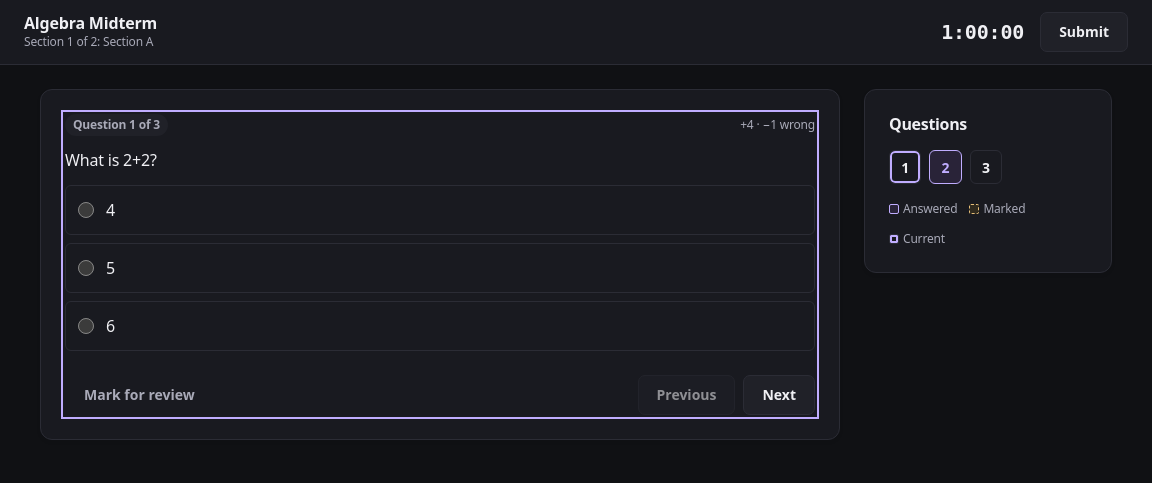
it: ExamRunner › shows answer state in the palette and navigates between all questions
Expected: the text "What is 2+2?" is shown, [65, 149, 157, 171]
Expected: the button named "Question 1, current" is shown, [889, 150, 921, 184]
Click the radio button labelled "4" at [86, 210], box [78, 202, 94, 218]
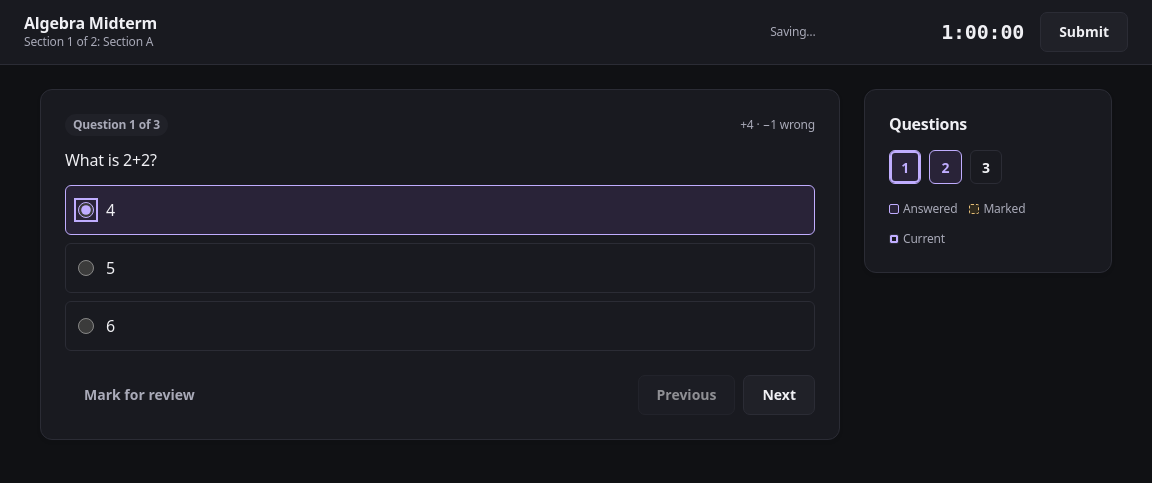
Expected: the button named "Question 1, answered, current" is shown, [889, 150, 921, 184]
Click the button named "Question 3" at [986, 167], box [970, 150, 1002, 184]
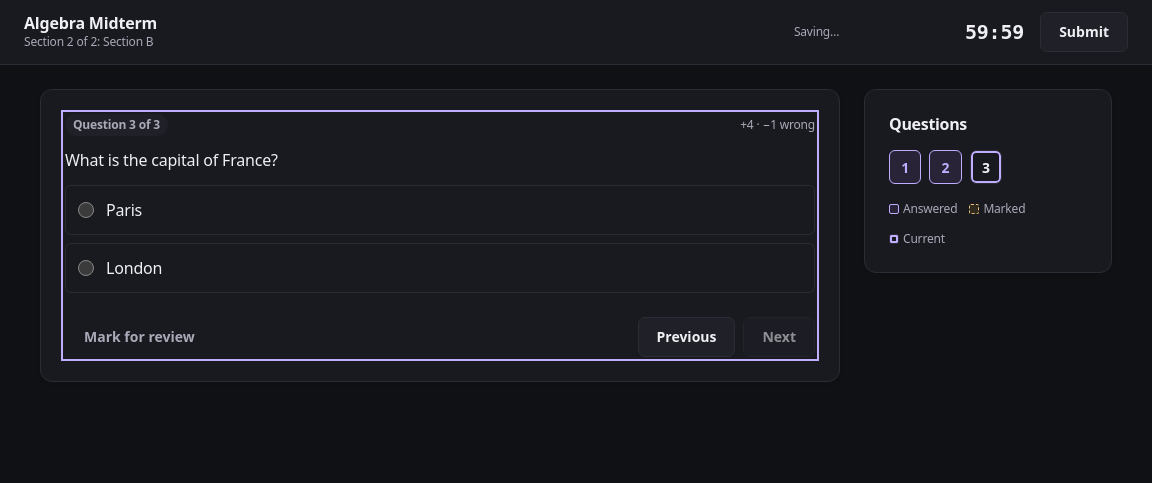
Expected: the text "What is the capital of France?" is shown, [65, 149, 278, 171]
Expected: the text "Section 2 of 2: Section B" is shown, [24, 33, 157, 51]
Expected: the button "Next" is disabled, [744, 317, 815, 357]
Click the button "Previous" at [686, 337], box [638, 317, 735, 357]
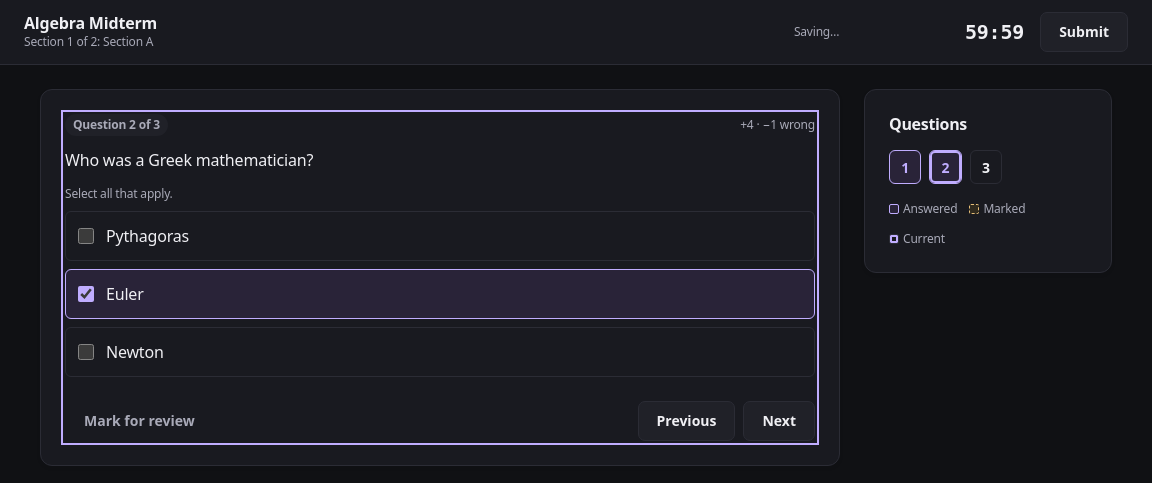
Expected: the text "Who was a Greek mathematician?" is shown, [65, 149, 313, 171]
Expected: the text "Section 1 of 2: Section A" is shown, [24, 33, 157, 51]
